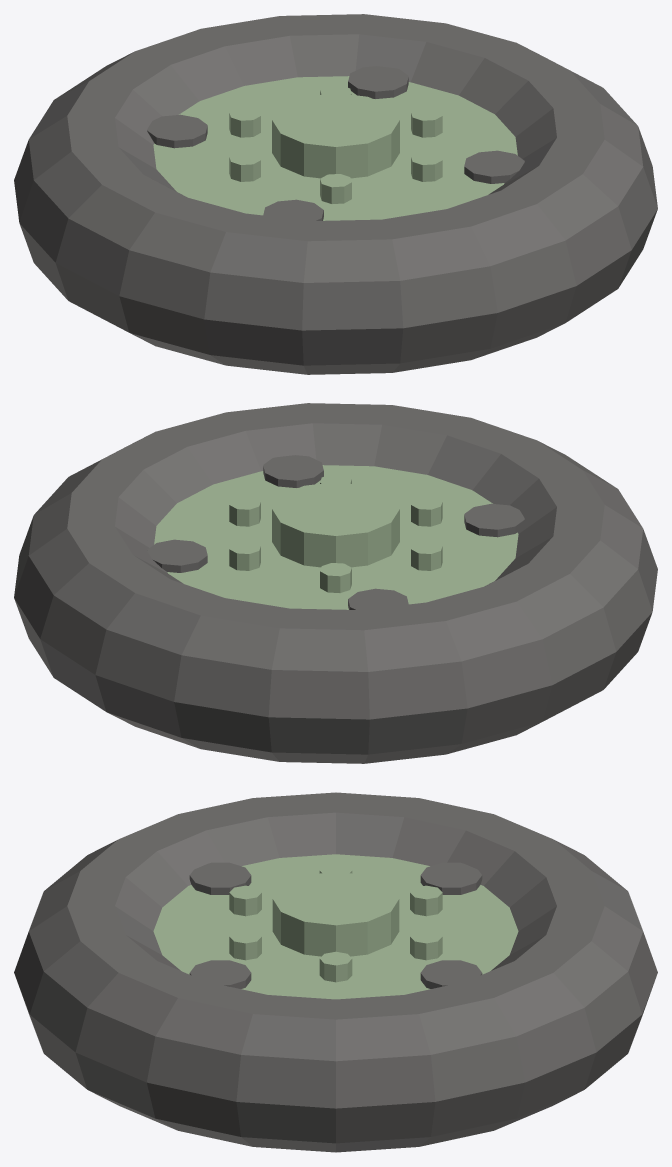
The model's file is greeble_sparewheel.glb.
3 views of the same model, one above another, from view 1: azimuth 30°, elevation 25°; view 2: azimuth 150°, elevation 25°; view 3: azimuth 270°, elevation 25° (orthographic).
Parts seen in each view (by area): view 1: wheel_spare_trim_dark, wheel_spare; view 2: wheel_spare_trim_dark, wheel_spare; view 3: wheel_spare_trim_dark, wheel_spare.
Boxes of the visible parts, x1,y1,x2,y2 form: wheel_spare_trim_dark: (14,14,657,374); wheel_spare: (153,76,517,220); wheel_spare_trim_dark: (14,403,657,763); wheel_spare: (154,465,518,609); wheel_spare_trim_dark: (14,792,657,1152); wheel_spare: (153,854,518,999).
Bounding box in the file's own units: 0.71 × 0.1708 × 0.71.
